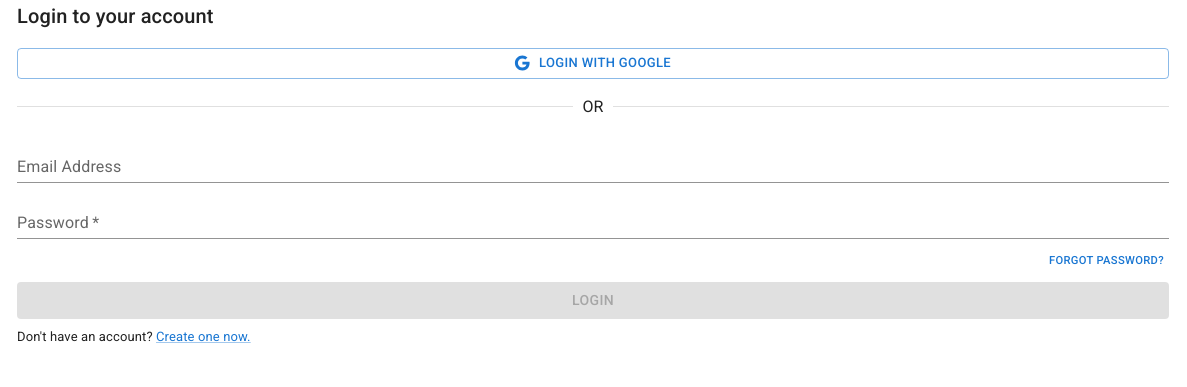
Test: <LoginForm /> › unsuccessful login through form displays error message
Type "invalid@email.com" into the field with placeholder "Email Address" at (593, 167), box 17,151 -> 1169,183
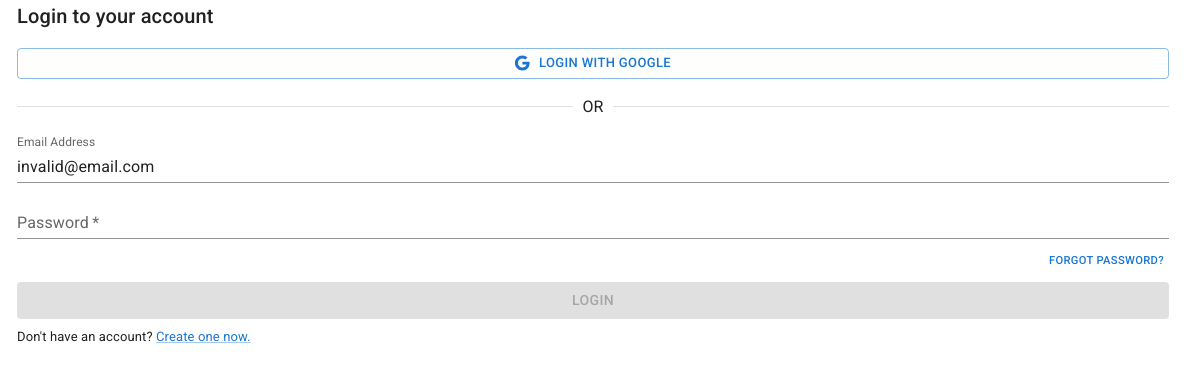
Type "wrong" into the password field with placeholder "Password" at (593, 223), box 17,207 -> 1169,239
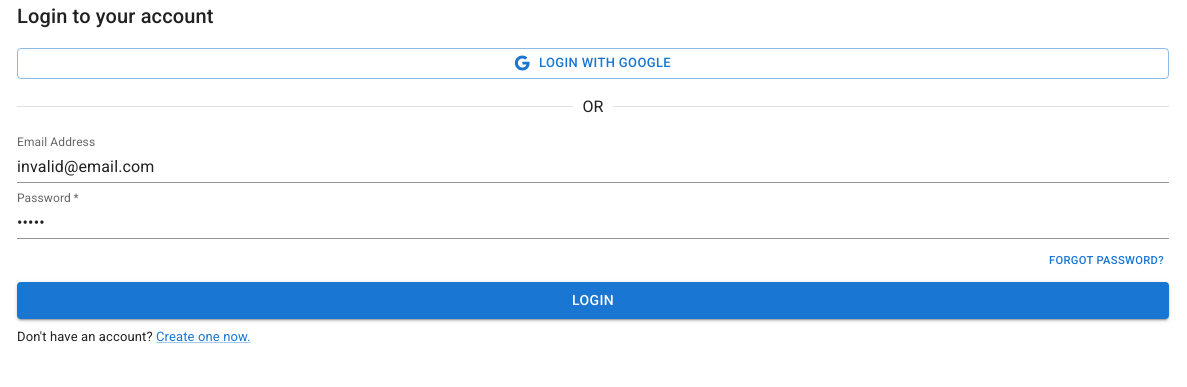
Click the button "Login" at (593, 301), box 17,282 -> 1169,319
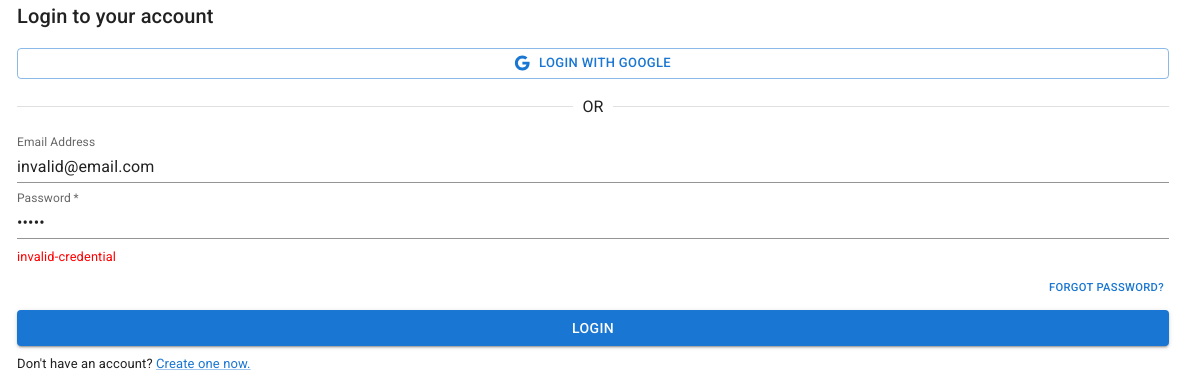
Expected: the list item "invalid-credential" is shown, 17,249 -> 116,264
